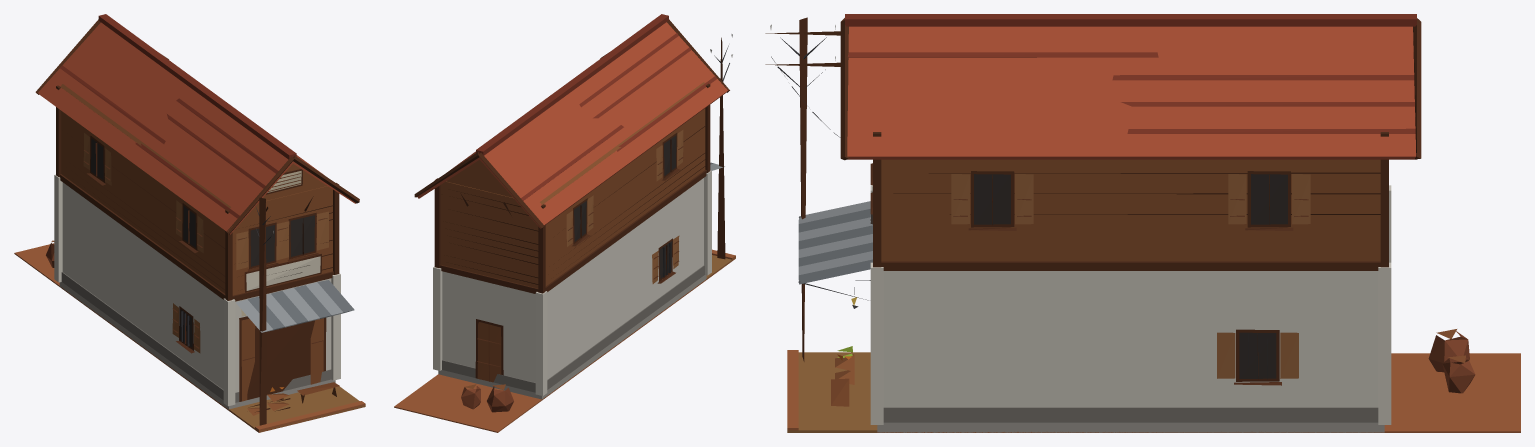
The model's file is bay1_one.glb.
The picture shows the model from 3 angles, left to right: view 1: azimuth 30°, elevation 25°; view 2: azimuth 150°, elevation 25°; view 3: azimuth 270°, elevation 25°; orthographic projection. The views are drawn at different scales.
Visible parts, largest first — view 1: body, windows; view 2: body, windows; view 3: body, windows.
Part boxes in pixels (x1,y1,x2,y2): body: (14,14,365,432); windows: (91,138,314,347); body: (394,14,735,432); windows: (574,135,676,278); body: (765,14,1520,432); windows: (851,174,1287,378).
Size of the model in its own units: 5.02 by 9.03 by 16.4.
